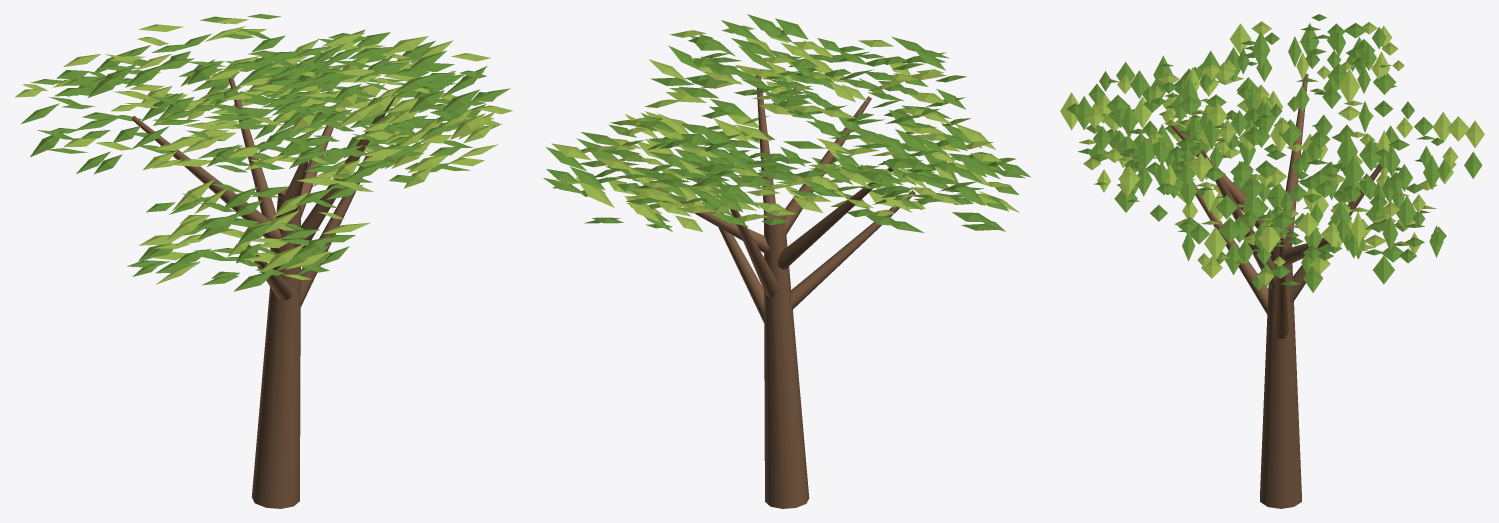
Rendered from tree.glb.
3 views of the same model, side by side, from view 1: azimuth 30°, elevation 25°; view 2: azimuth 150°, elevation 25°; view 3: azimuth 270°, elevation 25° (orthographic). The views are drawn at different scales.
Parts seen in each view (by area): view 1: tree__leaf, tree__leafLight, tree__bark; view 2: tree__leaf, tree__leafLight, tree__bark; view 3: tree__leaf, tree__leafLight, tree__bark.
Part boxes in pixels (bbox=[...]): tree__leaf: bbox=[20, 14, 510, 291]; tree__leafLight: bbox=[15, 18, 513, 284]; tree__bark: bbox=[131, 77, 395, 508]; tree__leaf: bbox=[543, 14, 1030, 232]; tree__leafLight: bbox=[551, 25, 1019, 231]; tree__bark: bbox=[656, 75, 915, 508]; tree__leaf: bbox=[1067, 14, 1482, 292]; tree__leafLight: bbox=[1060, 21, 1484, 285]; tree__bark: bbox=[1168, 73, 1382, 508].
Size of the model in its own units: 3.87 by 3.75 by 3.46.
